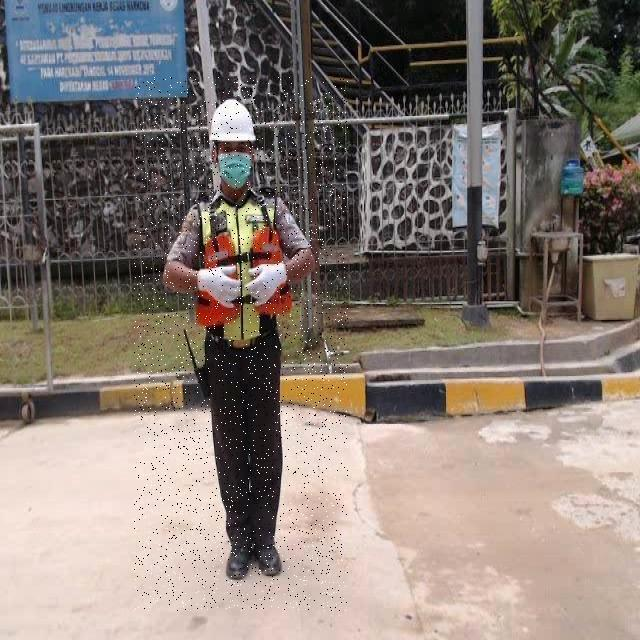safety_helmet: (207, 98, 258, 201), (208, 98, 256, 143)
